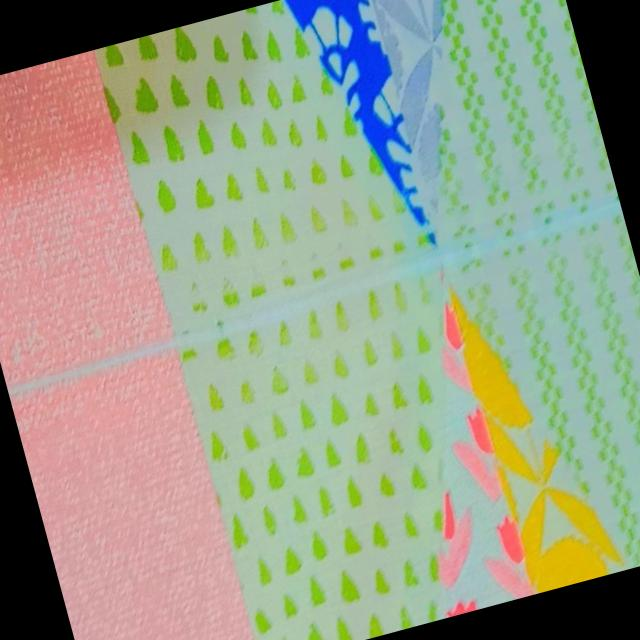selvet: (246, 188, 626, 326), (2, 306, 256, 406)
